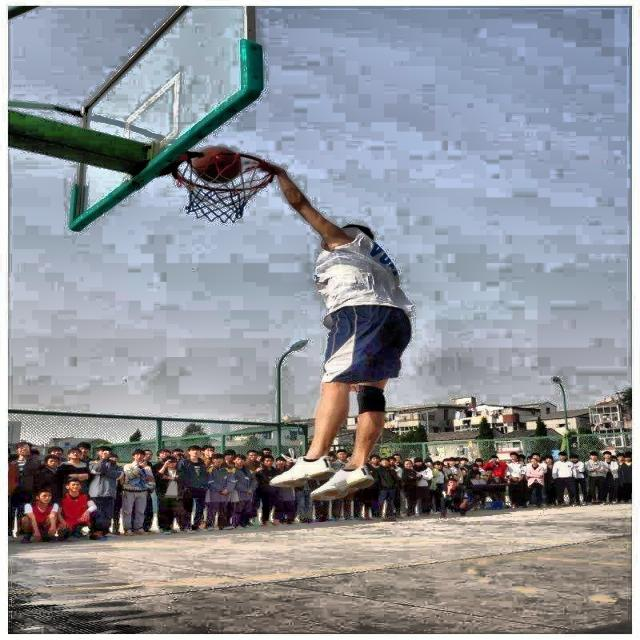rim: (170, 151, 270, 224)
